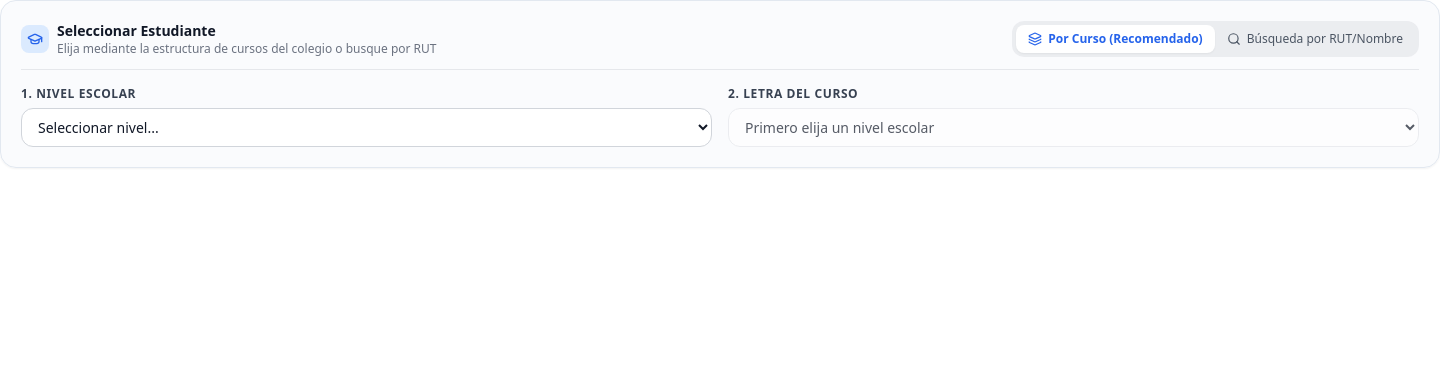
it: SelectorEstudianteCascada (HU 5.5 & 5.5.2) › al seleccionar letra despliega la lista de estudiantes con RUT y badge PIE
Select "1° Básico" in the dropdown named "Seleccionar Nivel Escolar" at (366, 128), box left=21, top=108, right=712, bottom=147
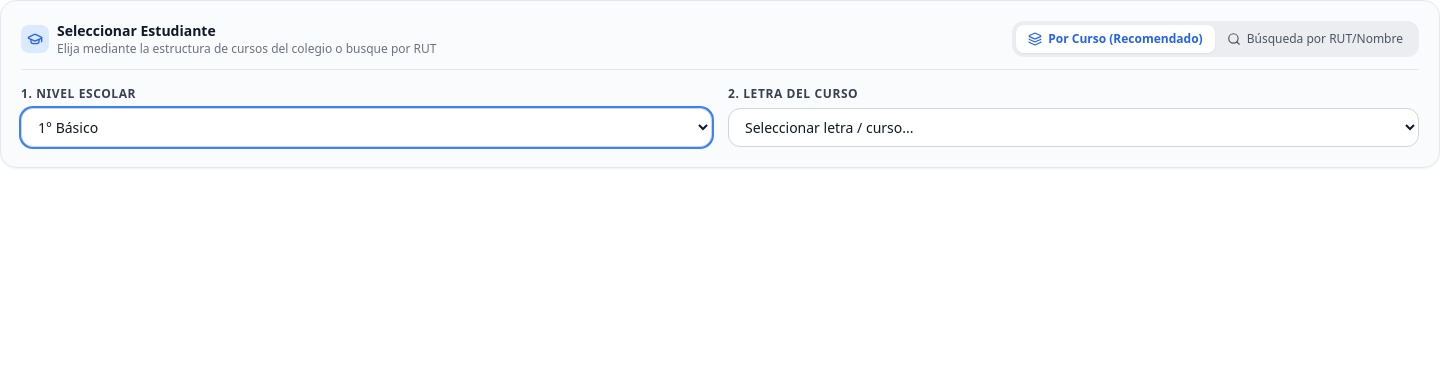
Select "1° Básico A" in the dropdown named "Seleccionar Letra del Curso" at (1074, 128), box left=728, top=108, right=1419, bottom=147
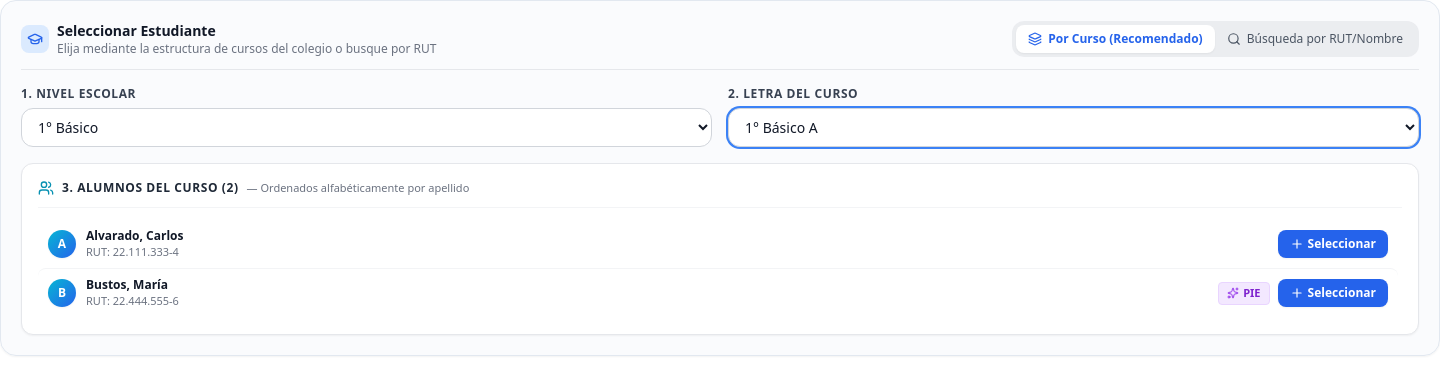
Check: the text "Alvarado" is shown, box left=86, top=228, right=140, bottom=244
Check: the text "Bustos" is shown, box left=86, top=277, right=126, bottom=293
Check: the text "RUT: 22.111.333-4" is shown, box left=86, top=244, right=184, bottom=260
